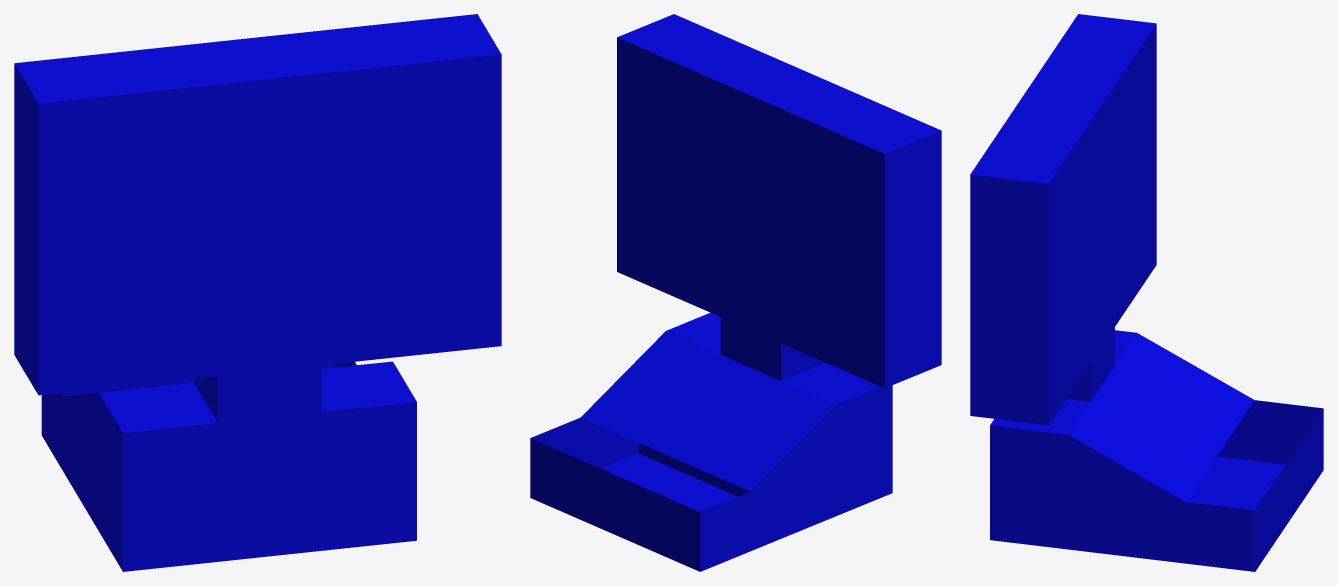
Rendered from shop regester.fbx.
3 views of the same model, side by side, from view 1: azimuth 30°, elevation 25°; view 2: azimuth 150°, elevation 25°; view 3: azimuth 270°, elevation 25° (orthographic). The views are drawn at different scales.
Parts seen in each view (by area): view 1: shop.002; view 2: shop.002; view 3: shop.002.
Boxes of the visible parts, left/top/right/bottom form: shop.002: left=14, top=14, right=501, bottom=571; shop.002: left=530, top=14, right=941, bottom=571; shop.002: left=970, top=14, right=1323, bottom=571.
Bounding box in the file's own units: 0.5668 × 0.6138 × 0.4981.
